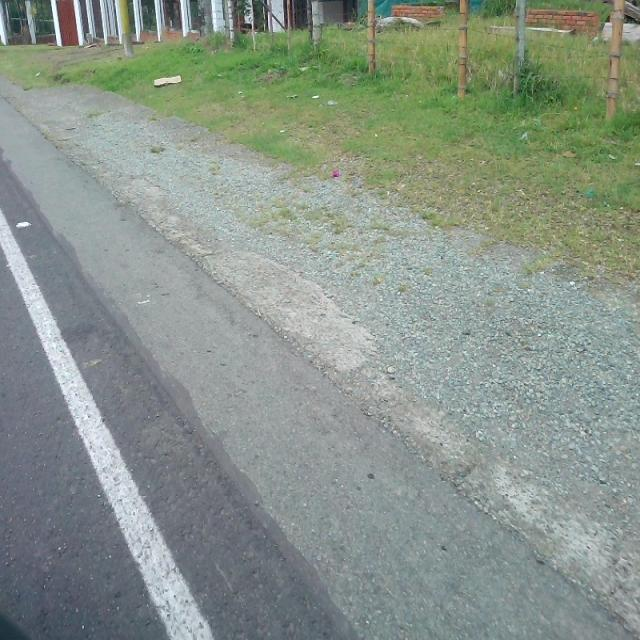DITCH: (1, 78, 638, 638), (30, 68, 639, 638)
